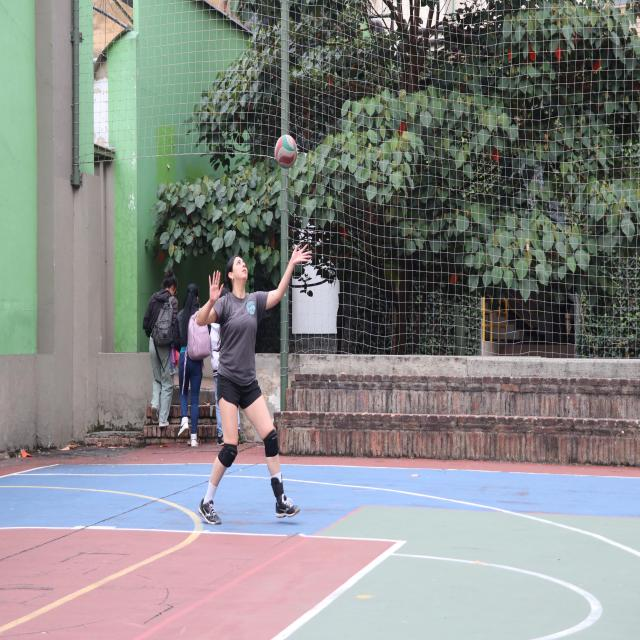volleyball: (274, 134, 298, 168)
